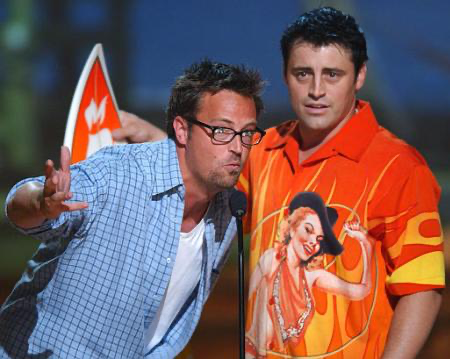Face: (187, 84, 260, 188), (286, 37, 360, 138)
